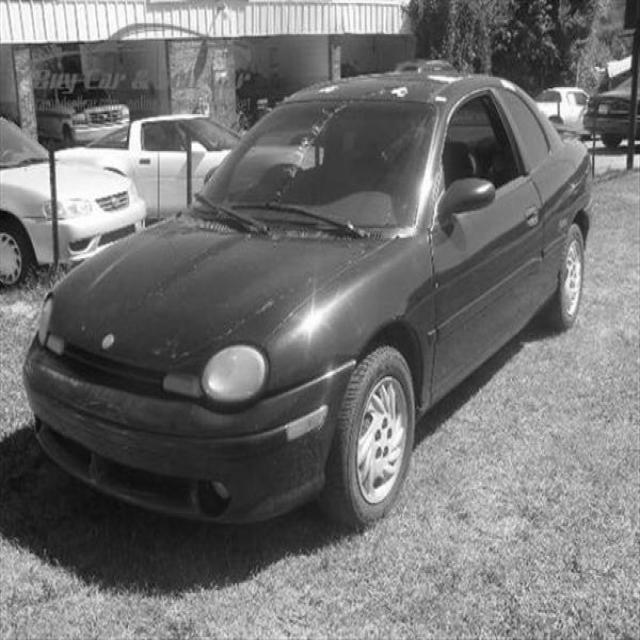Sedan: (22, 71, 594, 534)
